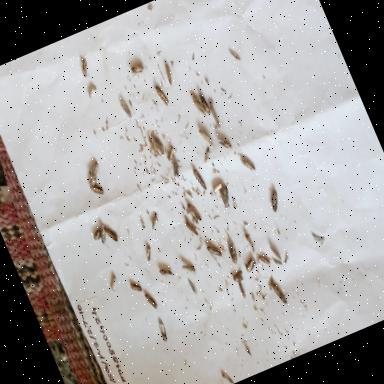pbw: (152, 80, 174, 111), (80, 158, 104, 185), (222, 236, 242, 266), (158, 61, 178, 91), (196, 123, 216, 151), (184, 199, 204, 227), (191, 166, 210, 194), (240, 252, 262, 276), (126, 58, 150, 80), (203, 237, 224, 262), (239, 152, 259, 178), (214, 181, 234, 207), (195, 90, 213, 118), (85, 222, 106, 246), (183, 216, 202, 242), (205, 102, 224, 128), (214, 130, 234, 154), (86, 177, 106, 200), (104, 270, 123, 294), (149, 132, 168, 156), (160, 142, 180, 164), (142, 288, 160, 312), (168, 156, 186, 180), (144, 210, 163, 232), (234, 276, 250, 302), (94, 220, 112, 243), (75, 57, 93, 80), (155, 319, 171, 344), (178, 258, 198, 278), (256, 248, 274, 270), (268, 252, 286, 274), (242, 230, 258, 254), (144, 132, 160, 156), (82, 80, 101, 100), (103, 222, 120, 244), (268, 243, 284, 266), (158, 262, 176, 281), (228, 266, 246, 285), (199, 144, 216, 164), (192, 97, 208, 118), (139, 243, 156, 262), (117, 97, 132, 118), (128, 278, 144, 296)
